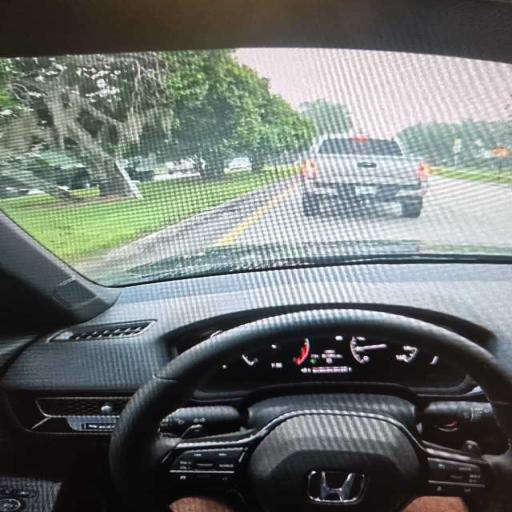car: (0, 0, 511, 511), (27, 151, 95, 189), (123, 157, 155, 181), (228, 157, 251, 170)
lane: (233, 177, 511, 246)
truck: (301, 135, 425, 217)
